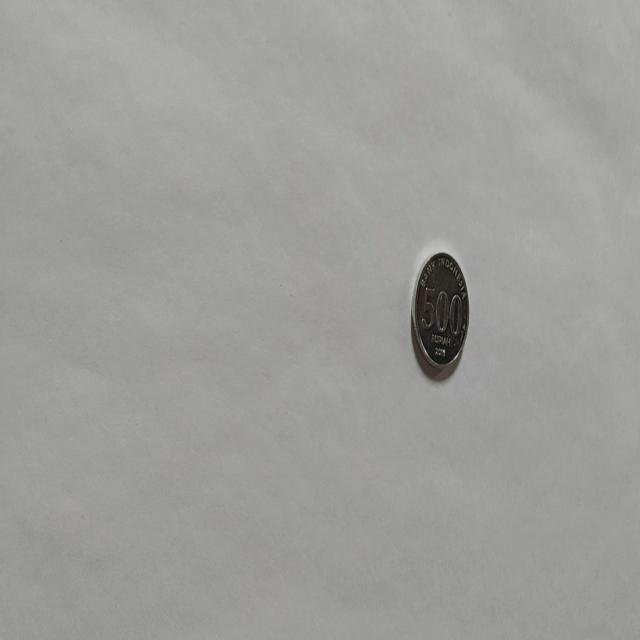lima ratus rupiah: (410, 250, 470, 378)
